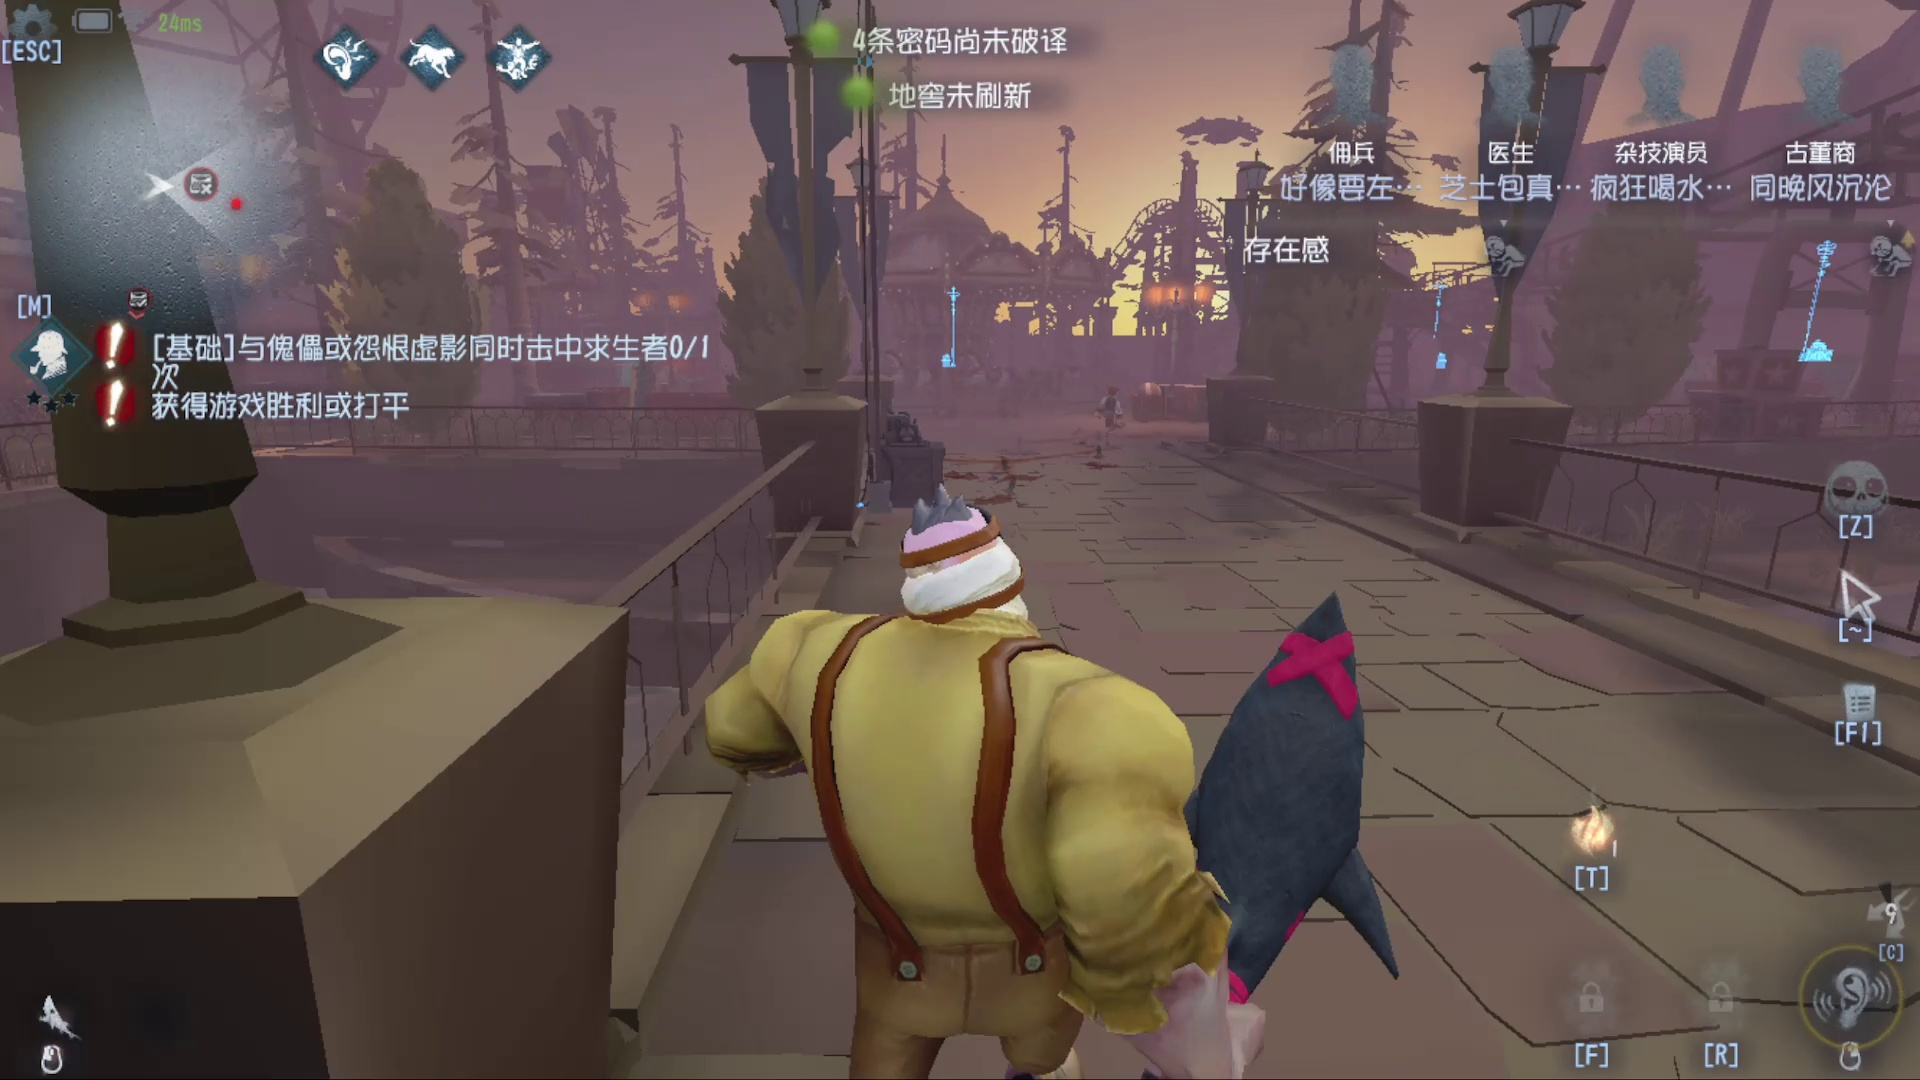密码机: (833, 1, 968, 505), (1780, 232, 1859, 381), (1422, 258, 1451, 378), (942, 278, 973, 386)
木板: (608, 351, 680, 418)
求生者: (1080, 386, 1145, 452)
